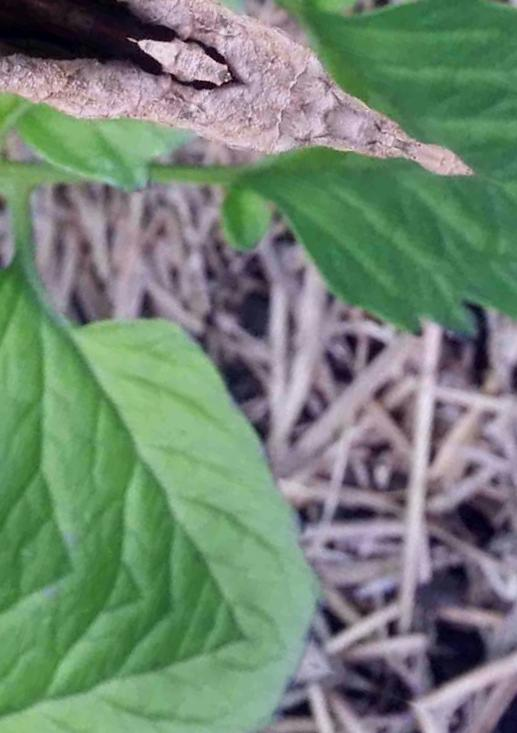Tomato leaf late blight: (0, 0, 517, 481)
